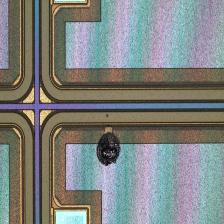PARTICLE: (90, 129, 130, 169)
